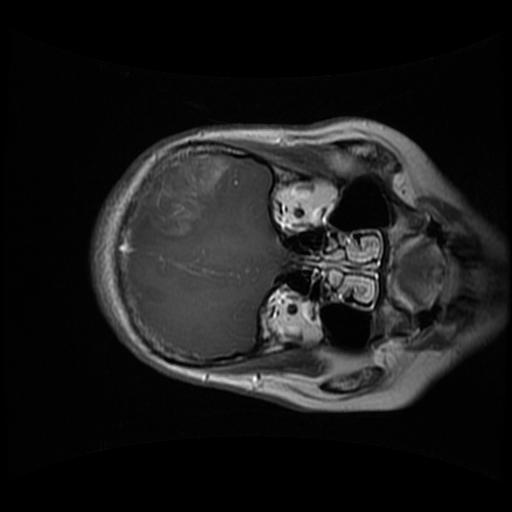glioma: (136, 153, 231, 240)
